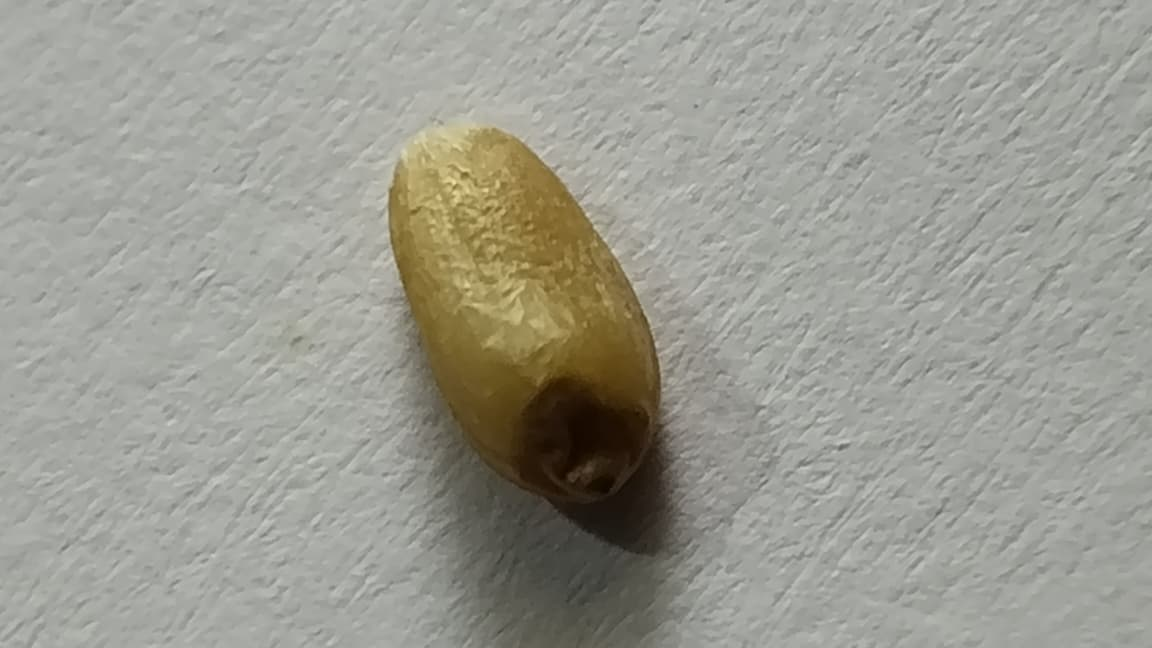healthy: (389, 122, 660, 502)
